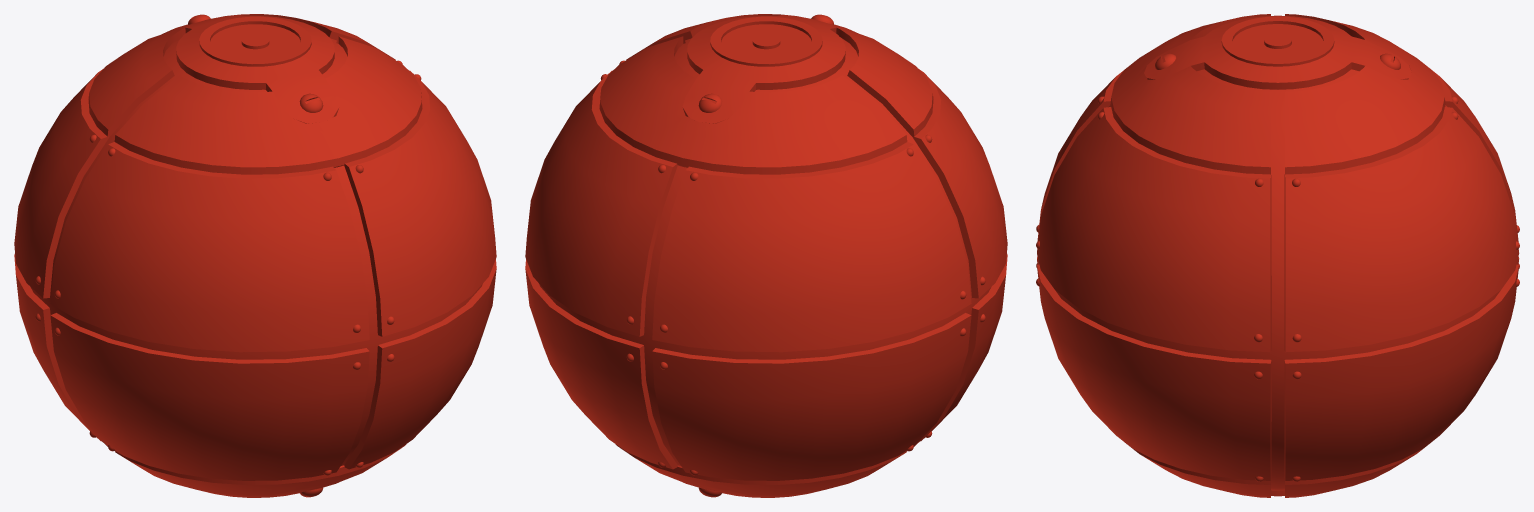
File: obj_survivalobject_triggerball_10x.fbx
The picture shows the model from 3 angles, left to right: view 1: azimuth 30°, elevation 25°; view 2: azimuth 150°, elevation 25°; view 3: azimuth 270°, elevation 25°; orthographic projection.
Visible parts, largest first — view 1: obj_survivalobject_triggerball; view 2: obj_survivalobject_triggerball; view 3: obj_survivalobject_triggerball.
Boxes of the visible parts, left/top/right/bottom form: obj_survivalobject_triggerball: left=14, top=14, right=496, bottom=497; obj_survivalobject_triggerball: left=525, top=14, right=1007, bottom=497; obj_survivalobject_triggerball: left=1036, top=14, right=1519, bottom=497.
Bounding box in the file's own units: 10.05 × 9.94 × 10.05.
